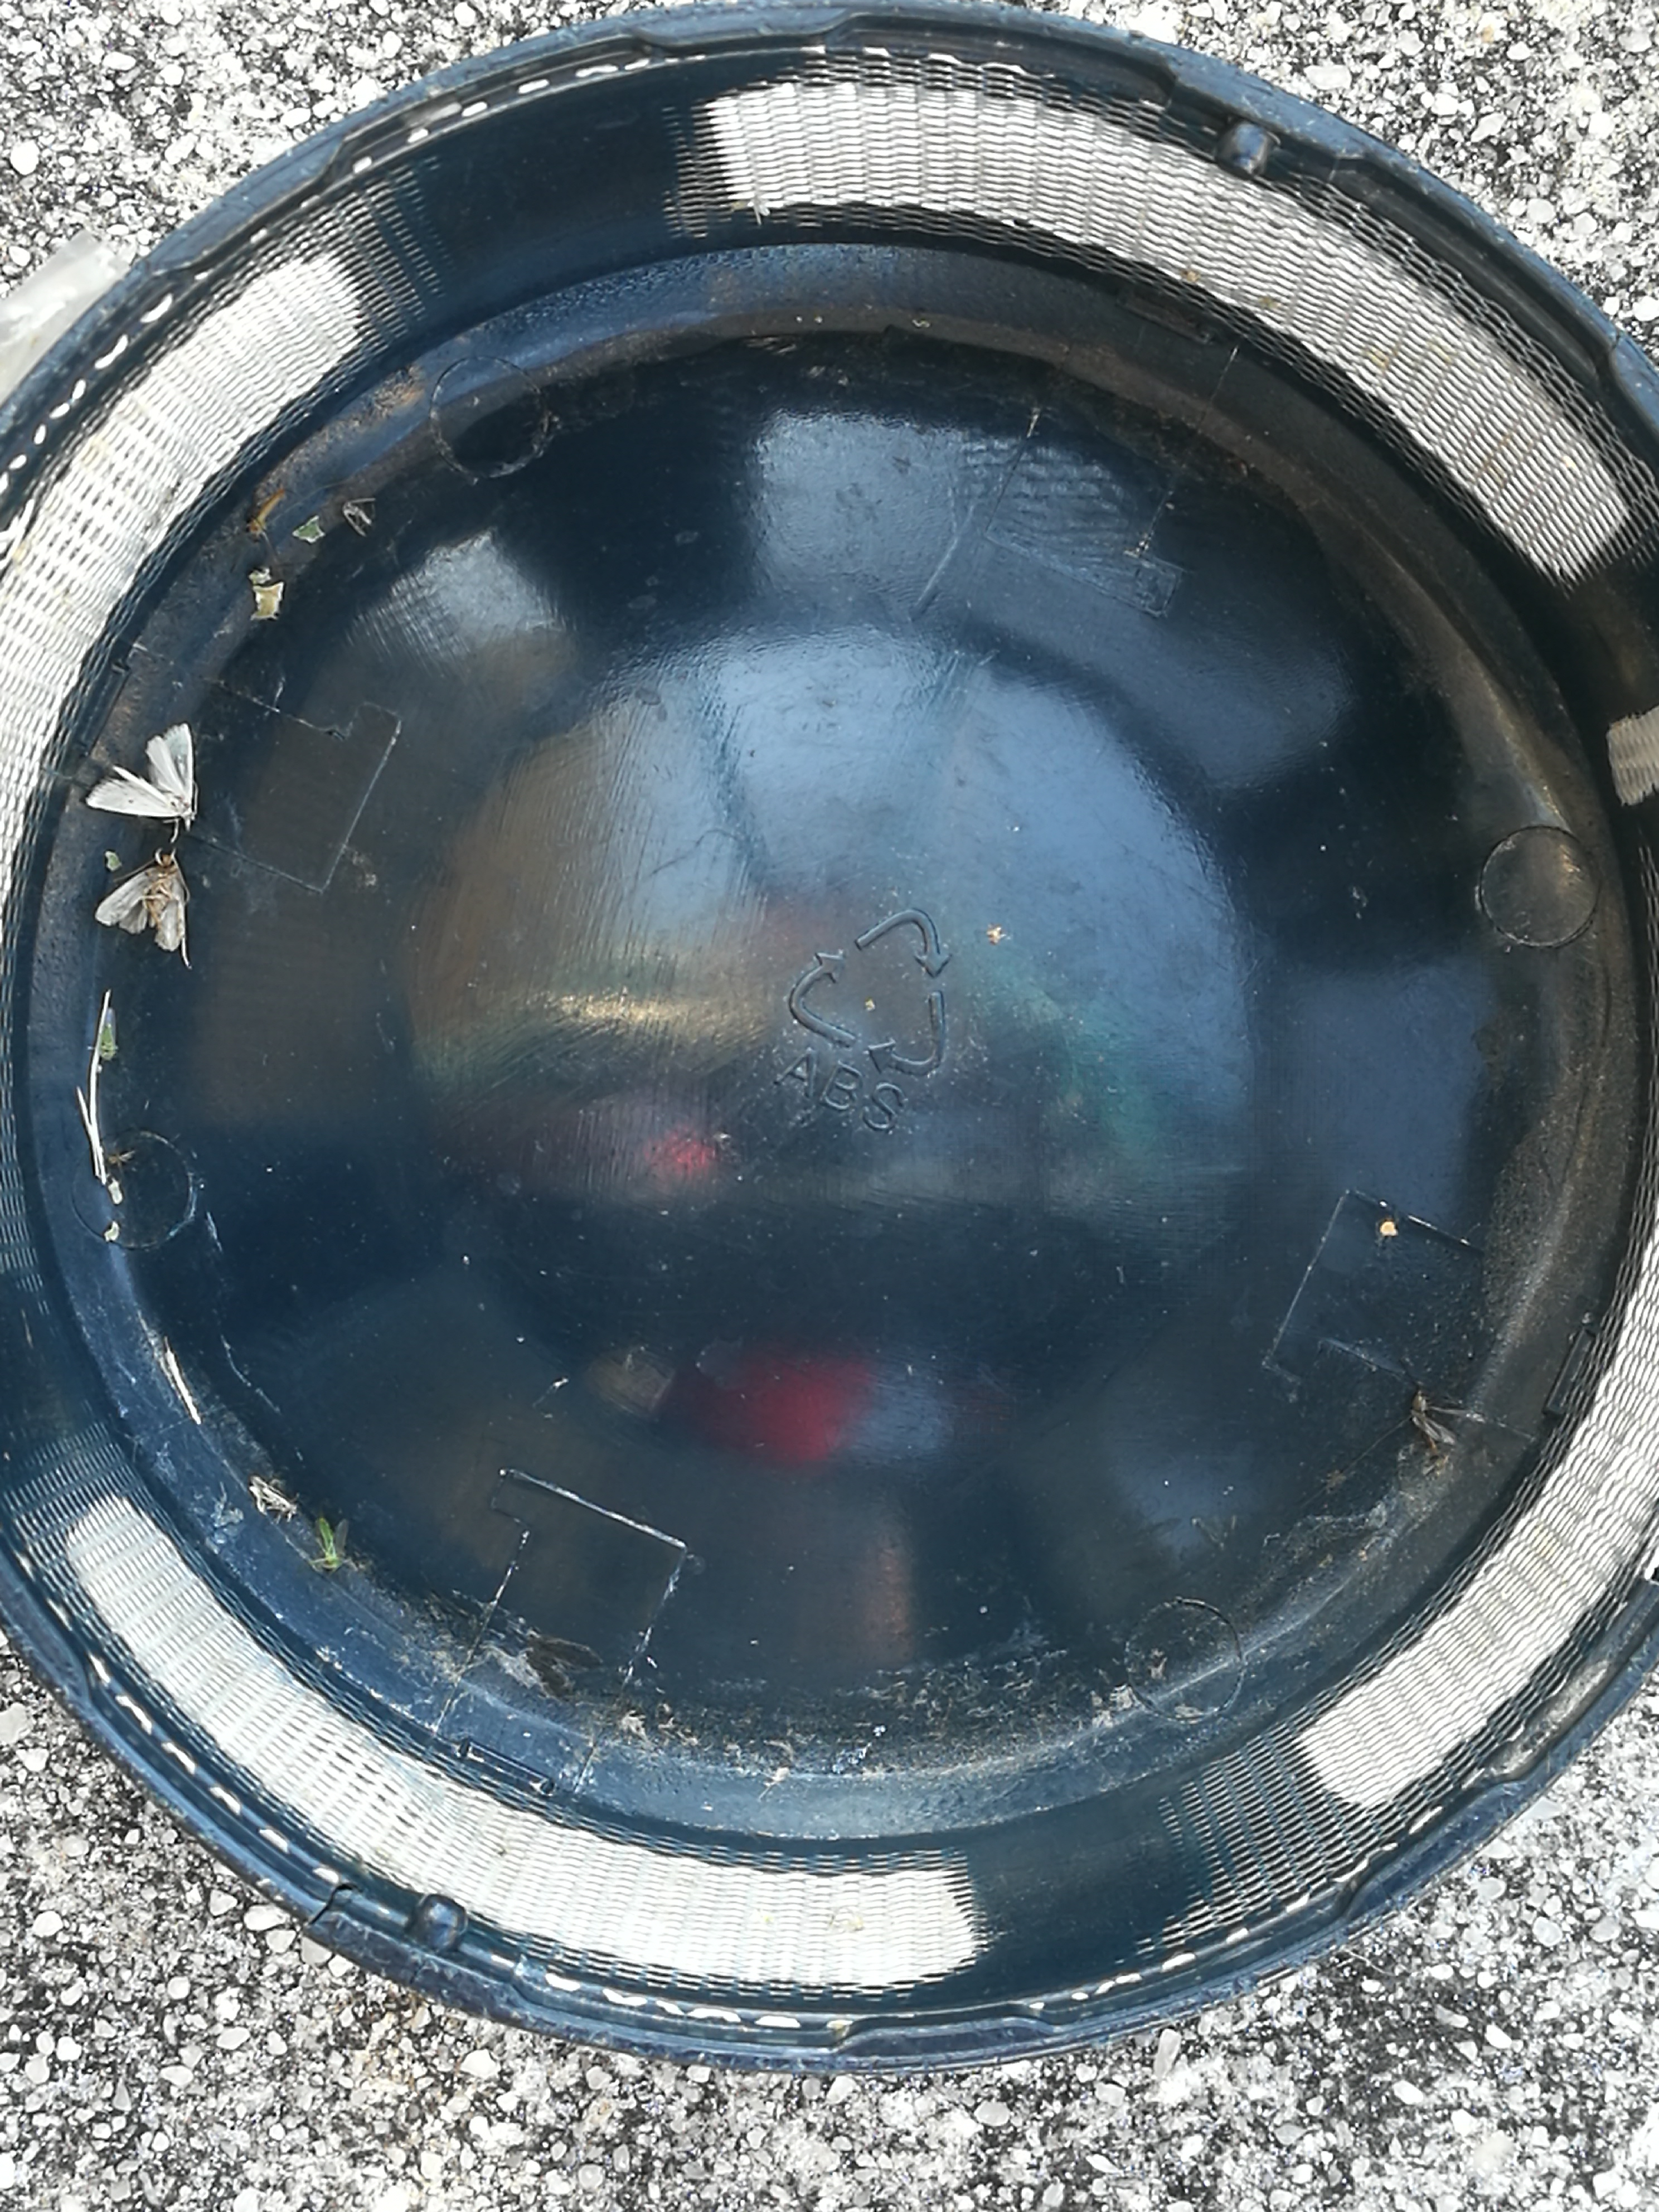mosquito: (249, 1479, 295, 1512)
moth: (85, 723, 193, 819), (94, 852, 185, 951)
